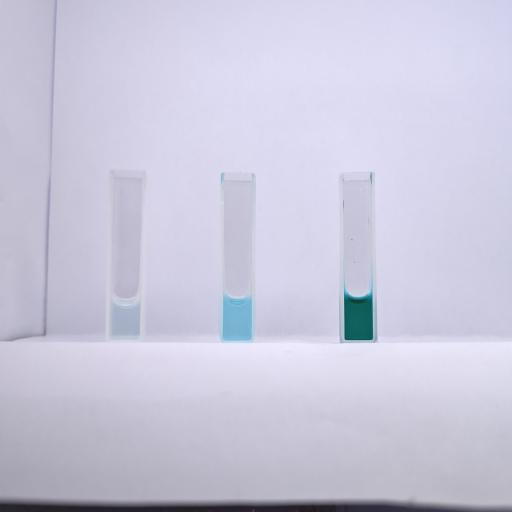cuvette: (104, 167, 148, 345), (336, 170, 378, 342), (218, 170, 257, 342)
liquid: (344, 294, 372, 340), (224, 295, 252, 340), (110, 296, 140, 338)
